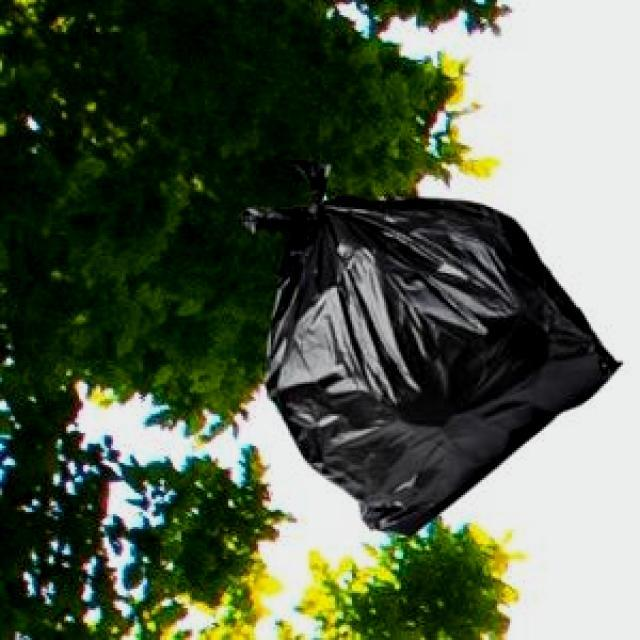Trashbag: (225, 149, 624, 543)
